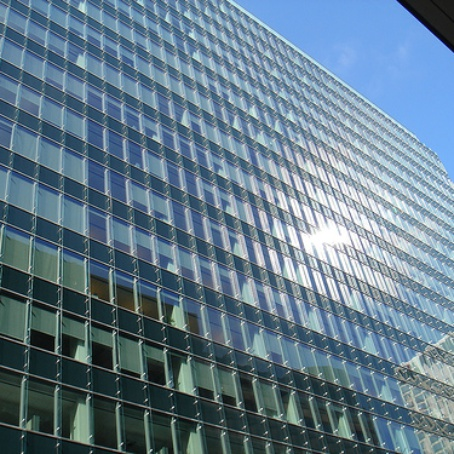building: (1, 1, 454, 453)
